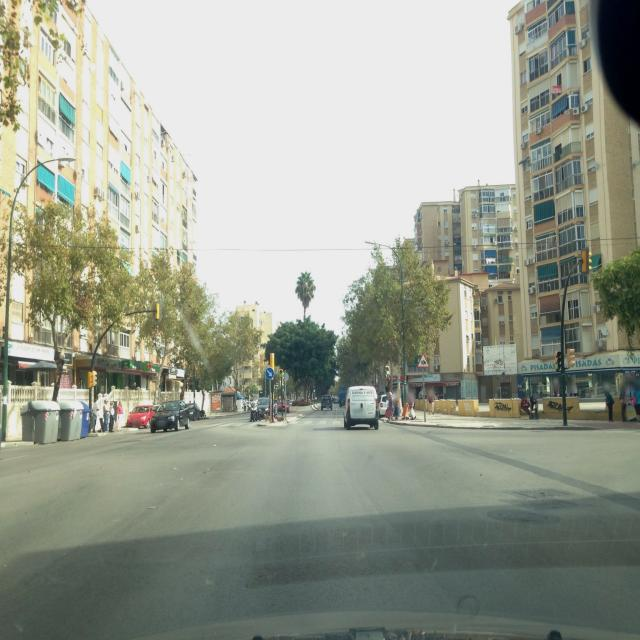car: (344, 385, 379, 430), (150, 399, 190, 434), (126, 404, 158, 430), (250, 396, 274, 421), (184, 403, 205, 421), (275, 398, 290, 414), (320, 395, 333, 411)
